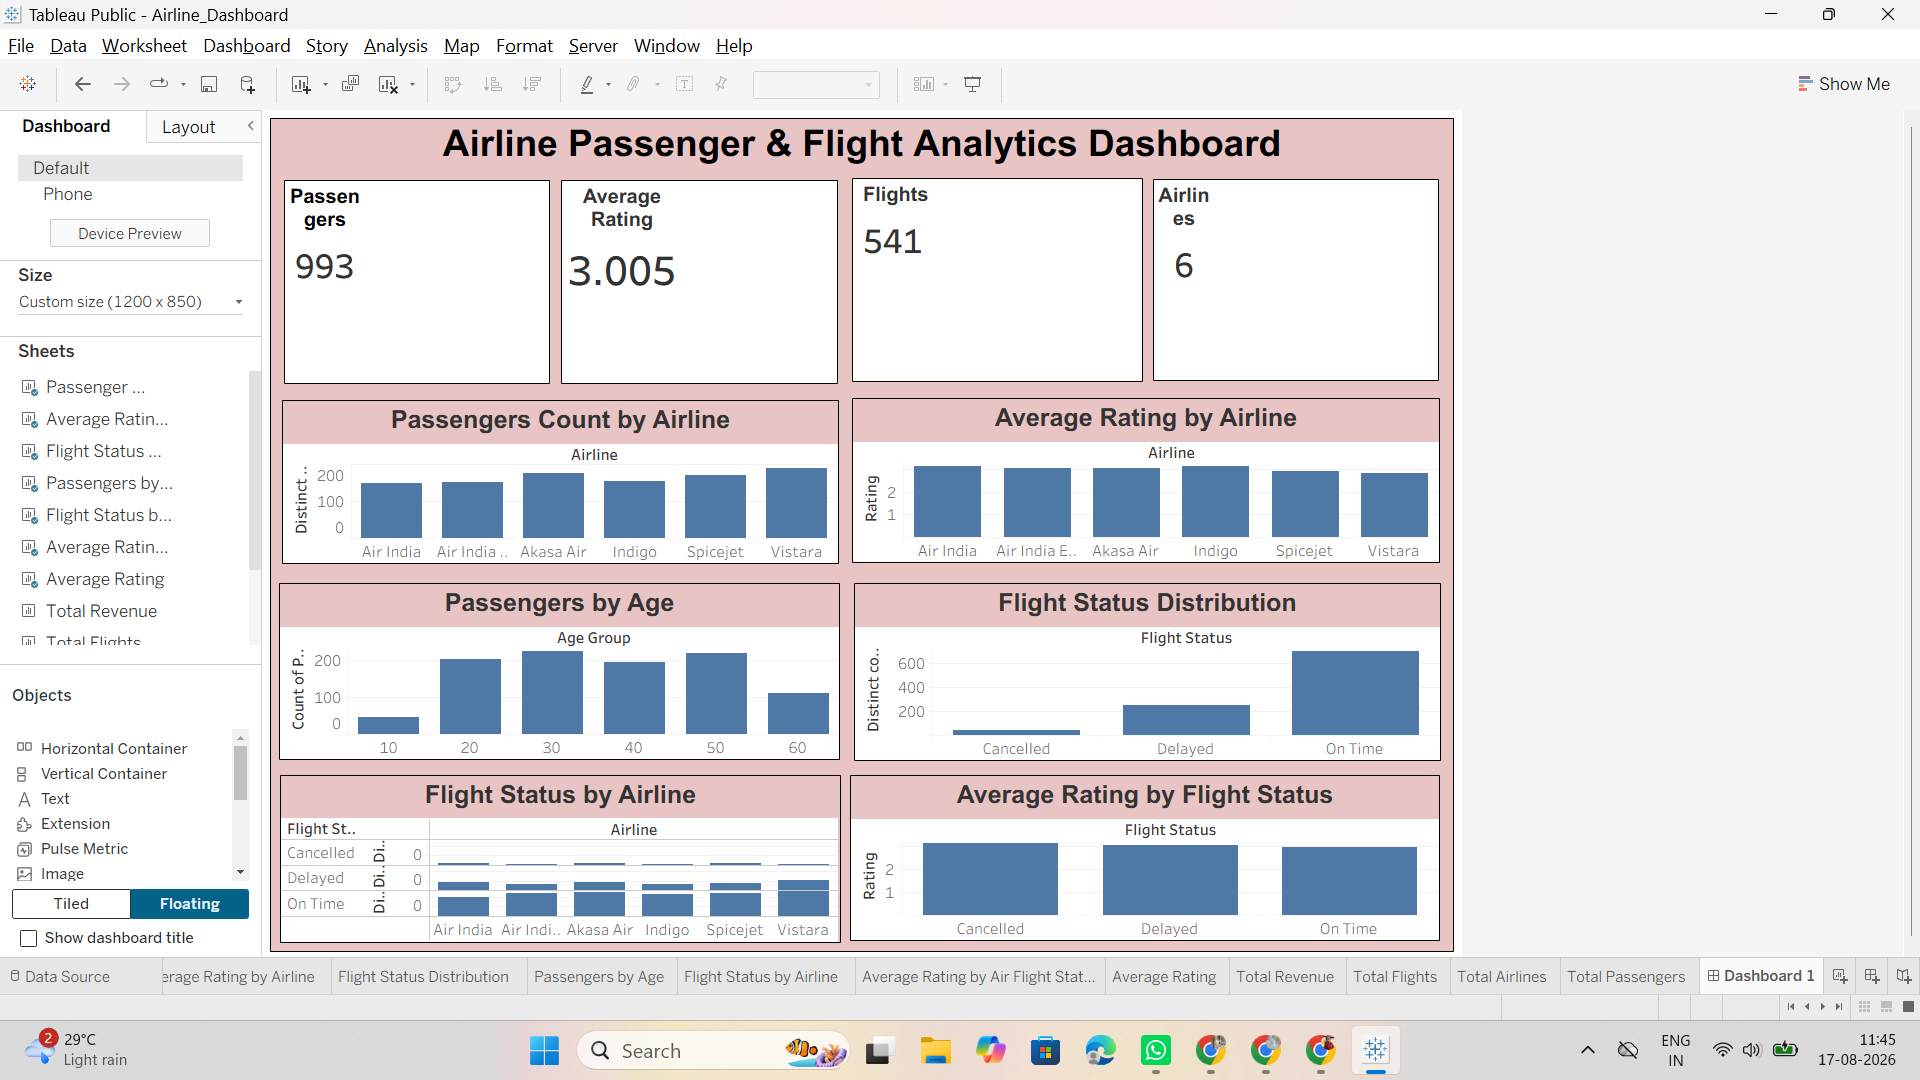

This screenshot's page, from the dashboard's own definition file:
{"tool":"tableau","page":{"name":"Dashboard 1","canvas":[1200,850],"ordinal":0},"visuals":[{"type":"title","box":[9,9,1182,50]},{"type":"worksheet","title":"Total Flights","mark":"Automatic","box":[590,68,291,204]},{"type":"worksheet","title":"Total Airlines","mark":"Automatic","box":[891,69,286,202]},{"type":"worksheet","title":"Total Passengers","mark":"Automatic","box":[22,70,266,204]},{"type":"worksheet","title":"Average Rating","mark":"Automatic","box":[299,70,277,204]},{"type":"worksheet","title":"Average Rating by Airline","mark":"Automatic","rows":["Rating"],"cols":["Airline"],"box":[590,288,588,165]},{"type":"worksheet","title":"Passenger Count by Airline","mark":"Automatic","rows":["Passenger_ID"],"cols":["Airline"],"box":[20,290,557,164]},{"type":"worksheet","title":"Passengers by Age","mark":"Bar","rows":["Passenger_ID"],"cols":["Age (bin)"],"box":[17,473,561,177]},{"type":"worksheet","title":"Flight Status Distribution","mark":"Automatic","rows":["Passenger_ID"],"cols":["Flight_Status"],"box":[592,473,587,178]},{"type":"worksheet","title":"Flight Status by Airline","mark":"Automatic","rows":["Flight_Status","Passenger_ID"],"cols":["Airline"],"box":[18,665,561,168]},{"type":"worksheet","title":"Average Rating by Air Flight Status","mark":"Automatic","rows":["Rating"],"cols":["Flight_Status"],"box":[588,665,590,166]}]}

Visuals, with their boxes on the page's 1200x850 design canvas (x1, y1, x2, y2). These are canvas units, not pixel positions in the 1920x1080 screenshot, which may show the page scaled, cropped or inside an application window:
title: l=9, t=9, r=1191, b=59
"Total Flights" worksheet: l=590, t=68, r=881, b=272
"Total Airlines" worksheet: l=891, t=69, r=1177, b=271
"Total Passengers" worksheet: l=22, t=70, r=288, b=274
"Average Rating" worksheet: l=299, t=70, r=576, b=274
"Average Rating by Airline" worksheet: l=590, t=288, r=1178, b=453
"Passenger Count by Airline" worksheet: l=20, t=290, r=577, b=454
"Passengers by Age" worksheet (Bar marks): l=17, t=473, r=578, b=650
"Flight Status Distribution" worksheet: l=592, t=473, r=1179, b=651
"Flight Status by Airline" worksheet: l=18, t=665, r=579, b=833
"Average Rating by Air Flight Status" worksheet: l=588, t=665, r=1178, b=831
